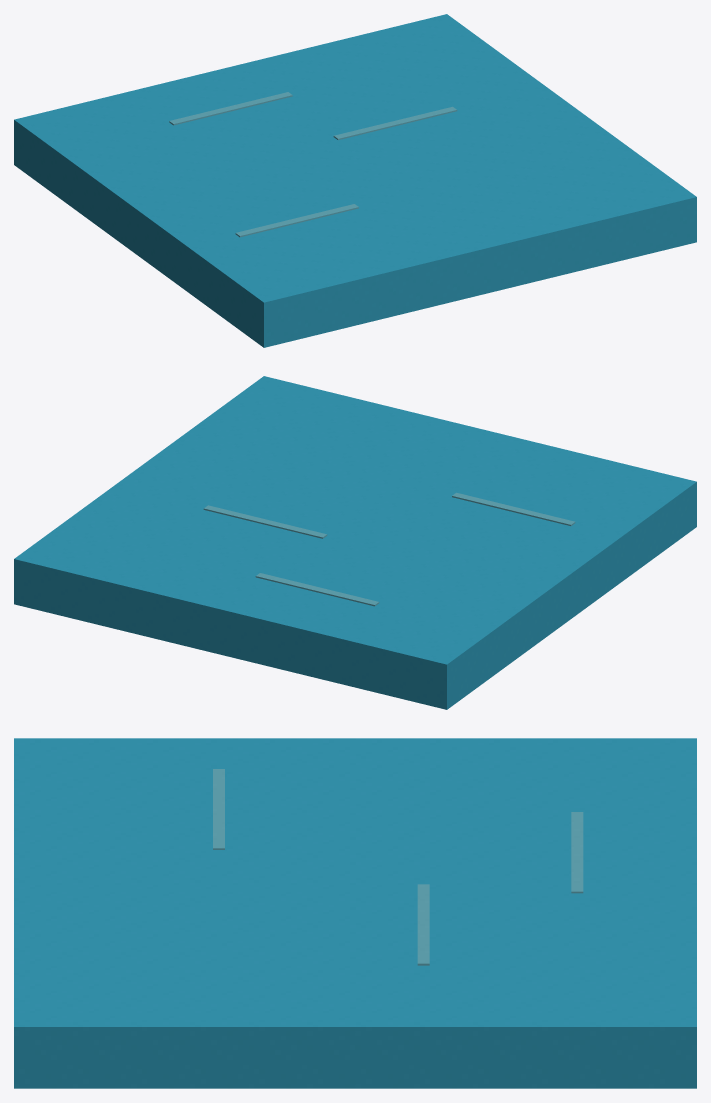
File: low-poly-nature-water-tile.glb
The picture shows the model from 3 angles, top to bottom: view 1: azimuth 30°, elevation 25°; view 2: azimuth 150°, elevation 25°; view 3: azimuth 270°, elevation 25°; orthographic projection. The views are drawn at different scales.
Visible parts, largest first — view 1: Water volume 001, Stylized water ripple 004, Stylized water ripple 002, Stylized water ripple 003; view 2: Water volume 001, Stylized water ripple 003, Stylized water ripple 004, Stylized water ripple 002; view 3: Water volume 001, Stylized water ripple 003, Stylized water ripple 004, Stylized water ripple 002.
Boxes of the visible parts, x1,y1,x2,y2 form: Water volume 001: [14, 14, 696, 347]; Stylized water ripple 004: [169, 92, 292, 125]; Stylized water ripple 002: [235, 204, 358, 237]; Stylized water ripple 003: [333, 106, 457, 140]; Water volume 001: [14, 376, 696, 709]; Stylized water ripple 003: [203, 505, 327, 538]; Stylized water ripple 004: [255, 573, 379, 606]; Stylized water ripple 002: [452, 492, 575, 525]; Water volume 001: [14, 738, 696, 1088]; Stylized water ripple 003: [417, 884, 429, 965]; Stylized water ripple 004: [571, 812, 583, 893]; Stylized water ripple 002: [213, 769, 224, 849].
Bounding box in the file's own units: 2 × 0.206 × 2.
2 materials, 2 textured.
